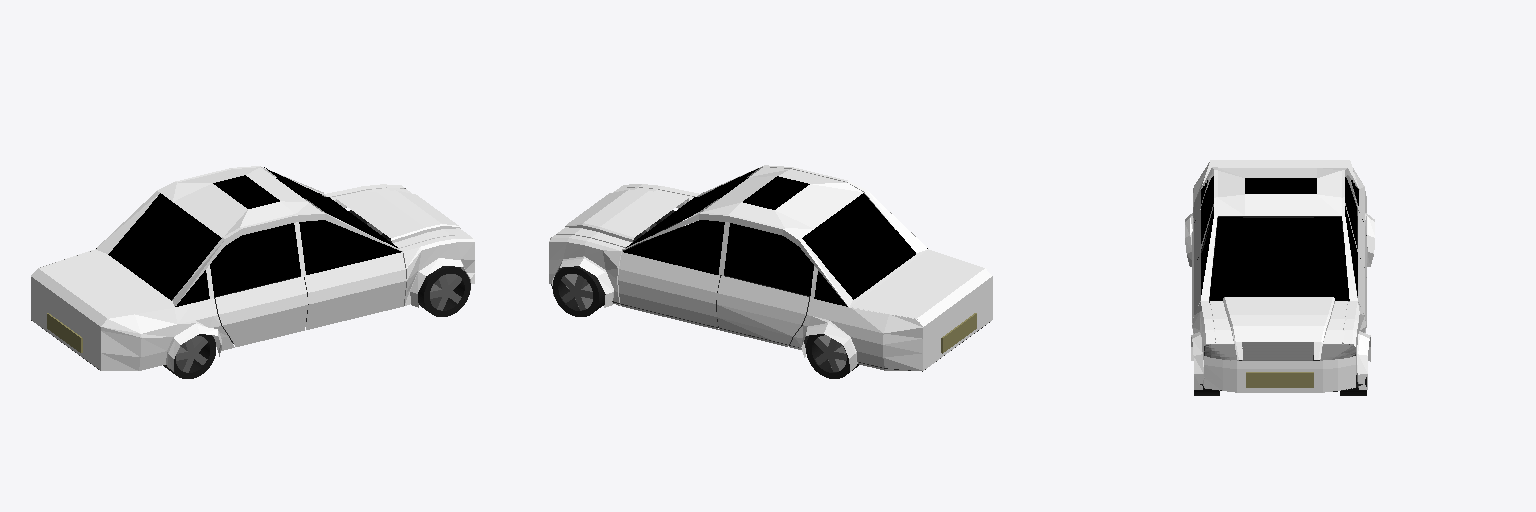
File: car.obj
The picture shows the model from 3 angles: view 1: azimuth 30°, elevation 25°; view 2: azimuth 150°, elevation 25°; view 3: azimuth 270°, elevation 25°; orthographic projection.
Visible parts, largest first — view 1: Plane001, Plane014, Plane009, Plane006, Tube006, Plane003, Plane020, NGon004, Tube007, NGon005, Box001, Plane012; view 2: Plane001, Plane014, Plane010, Plane007, Tube005, Plane003, Plane020, NGon003, NGon002, Tube004, Box001; view 3: Plane001, Plane003, Box002, Plane020.
Boxes of the visible parts, x1,y1,x2,y2 form: Plane001: [31, 166, 474, 371]; Plane014: [108, 193, 221, 300]; Plane009: [210, 223, 300, 296]; Plane006: [299, 220, 400, 274]; Tube006: [418, 266, 470, 316]; Plane003: [264, 167, 397, 247]; Plane020: [213, 176, 277, 208]; NGon004: [430, 274, 461, 310]; Tube007: [163, 334, 215, 378]; NGon005: [176, 336, 207, 372]; Box001: [47, 313, 82, 352]; Plane012: [175, 270, 209, 306]; Plane001: [549, 165, 992, 371]; Plane014: [802, 193, 915, 299]; Plane010: [724, 223, 813, 295]; Plane007: [623, 220, 724, 274]; Tube005: [552, 266, 605, 316]; Plane003: [626, 168, 758, 248]; Plane020: [744, 177, 809, 209]; NGon003: [561, 274, 592, 310]; NGon002: [814, 335, 846, 371]; Tube004: [806, 334, 858, 378]; Box001: [941, 313, 976, 353]; Plane001: [1185, 160, 1374, 392]; Plane003: [1210, 217, 1349, 300]; Box002: [1246, 372, 1313, 387]; Plane020: [1245, 179, 1316, 193].
Size of the model in its own units: 285 by 92.97 by 123.